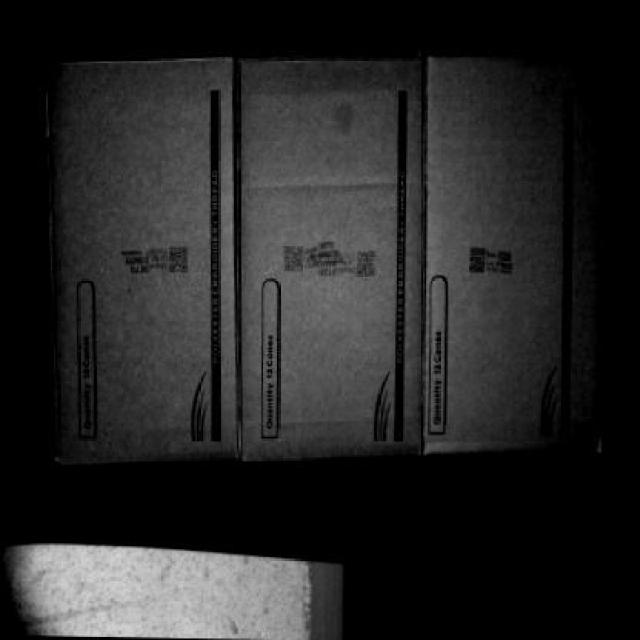cardboxes: (42, 65, 245, 460), (233, 51, 425, 451), (420, 60, 608, 443)
